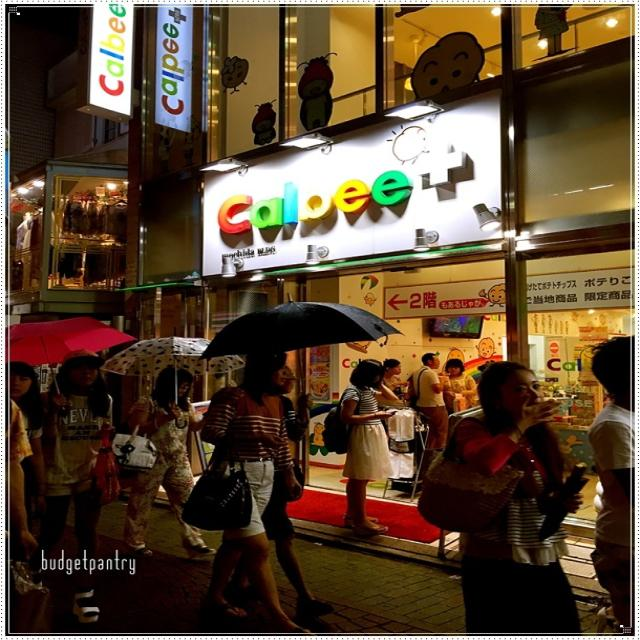body: (414, 358, 597, 639), (178, 346, 317, 636), (222, 364, 336, 620), (107, 362, 222, 563), (583, 330, 639, 639), (318, 357, 404, 538), (39, 347, 115, 546), (5, 393, 56, 635), (4, 359, 54, 509), (410, 352, 450, 460), (16, 205, 54, 278), (440, 357, 480, 416), (373, 357, 412, 412)
